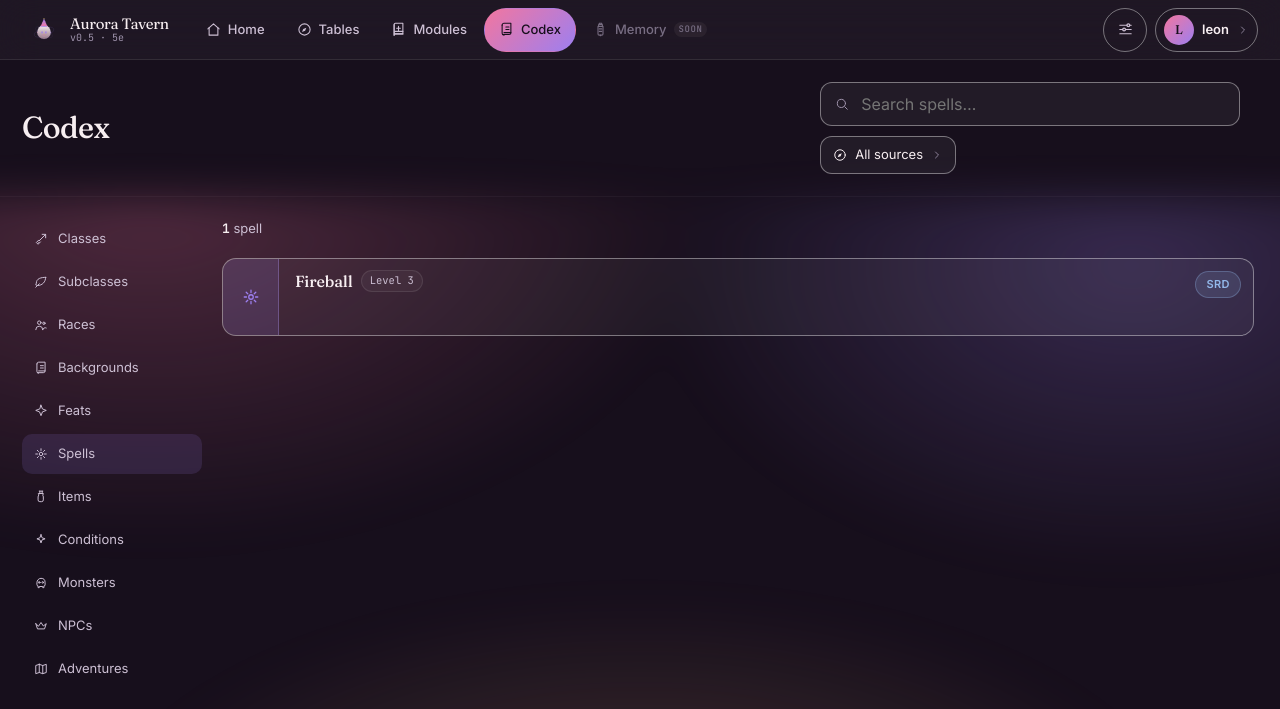
it: MAJOR-1 (Iro-A11y) — group headings reach the accessible tree › "Homebrew" is exposed via an accessible group, not an aria-hidden divider
The width and height of the screenshot is (1280, 709).
Expected: the option "Fireball Level 3 SRD" is shown, top-left (222, 258), bottom-right (1254, 336)
What coordinates should you click on to do the following:
click the dropdown named "content source"
I would click on:
 (888, 155)
Its box is top-left (820, 136), bottom-right (956, 174).
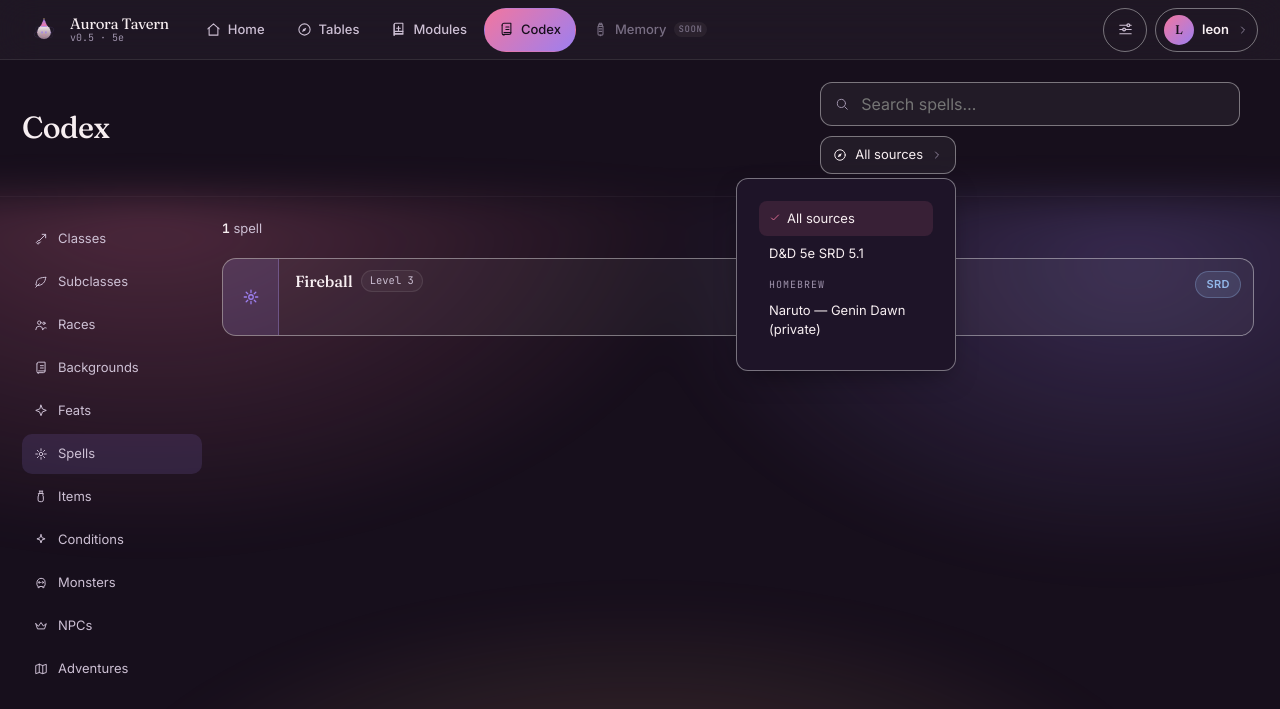
Expected: the option "Naruto — Genin Dawn (private)" is shown, top-left (769, 302), bottom-right (905, 337)
